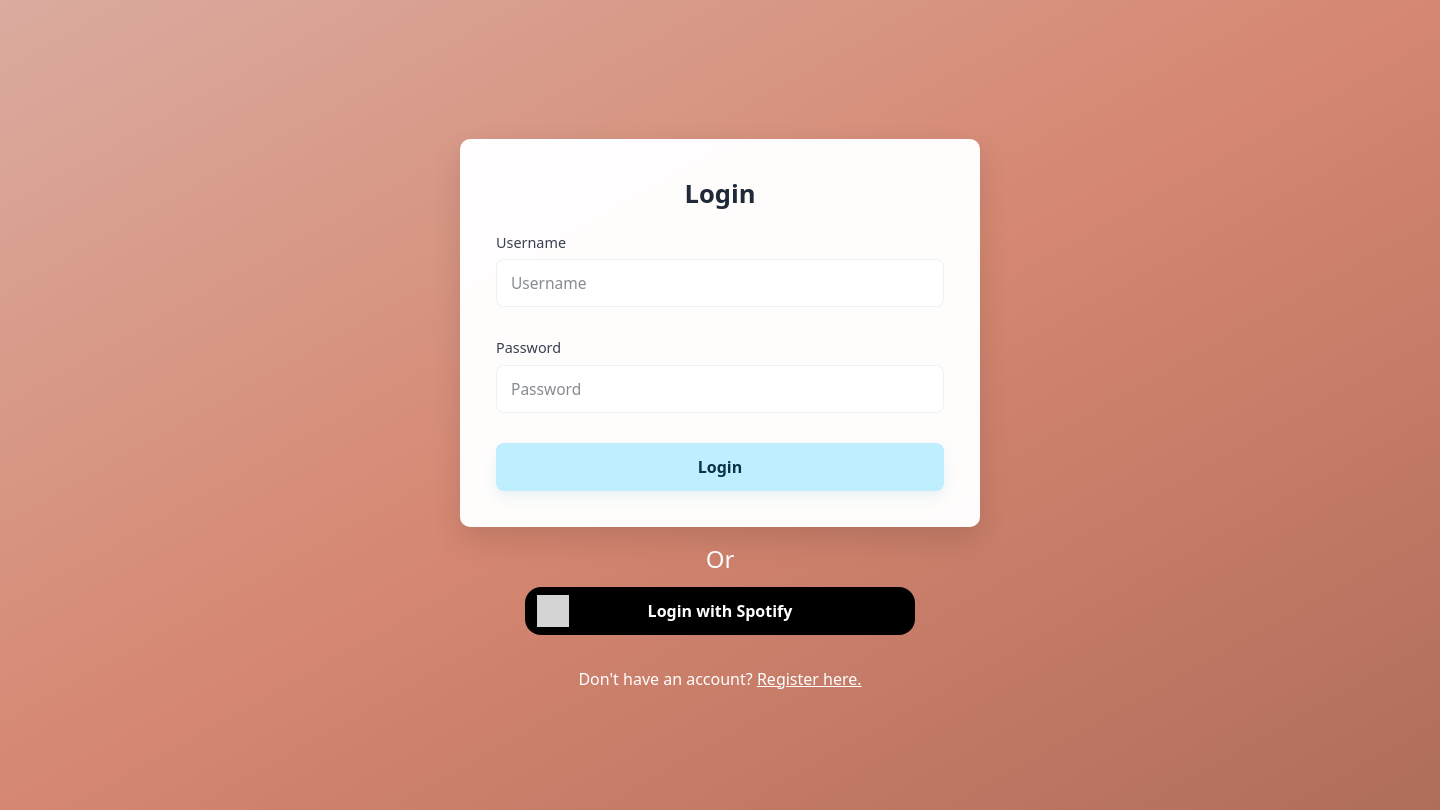
Test: Login component › shows error message on login failure
The width and height of the screenshot is (1440, 810).
Type "baduser" into the field with placeholder "Username". click: (720,283)
box: [496, 259, 944, 307]
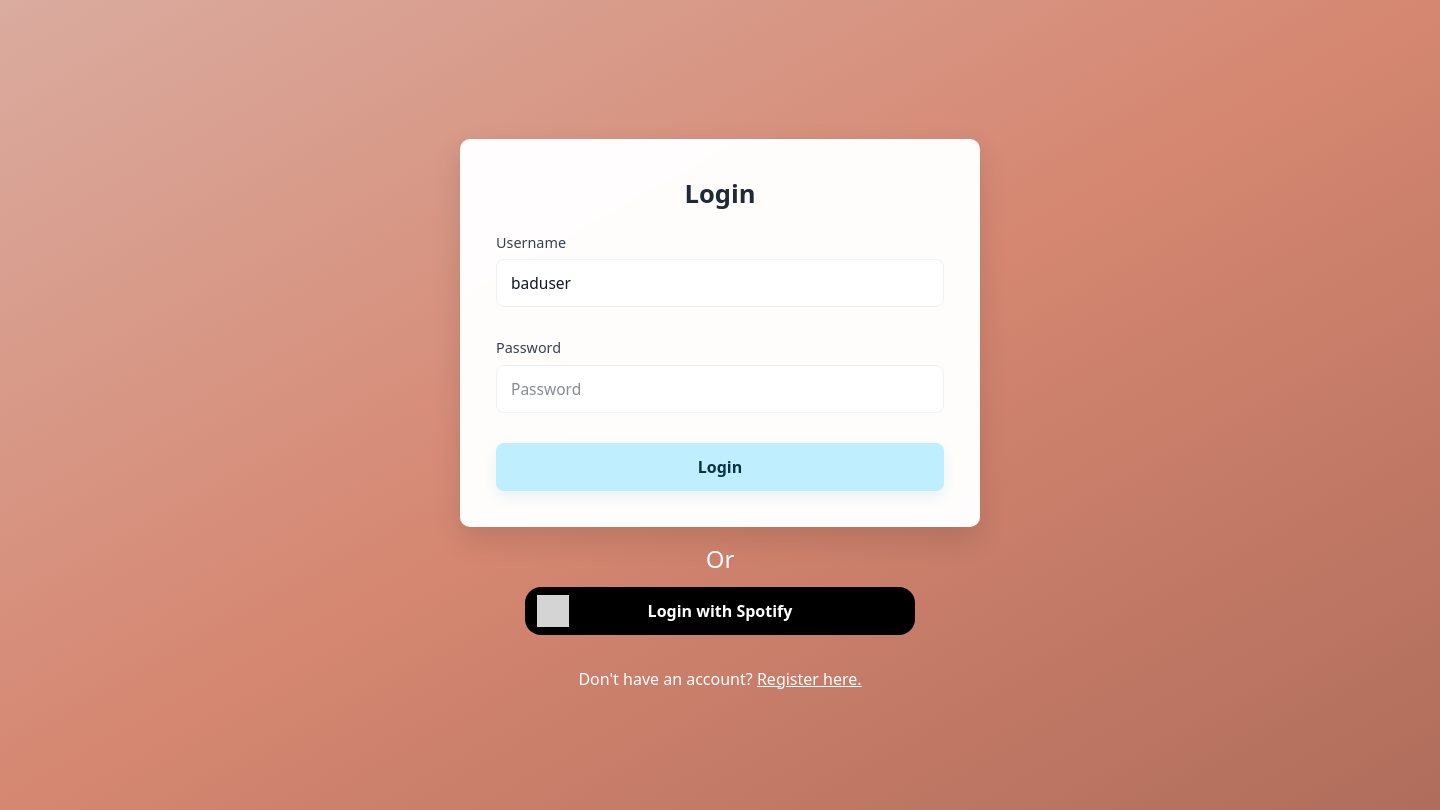
Type "badpass" into the password field with placeholder "Password". click: (720,389)
box: [496, 365, 944, 413]
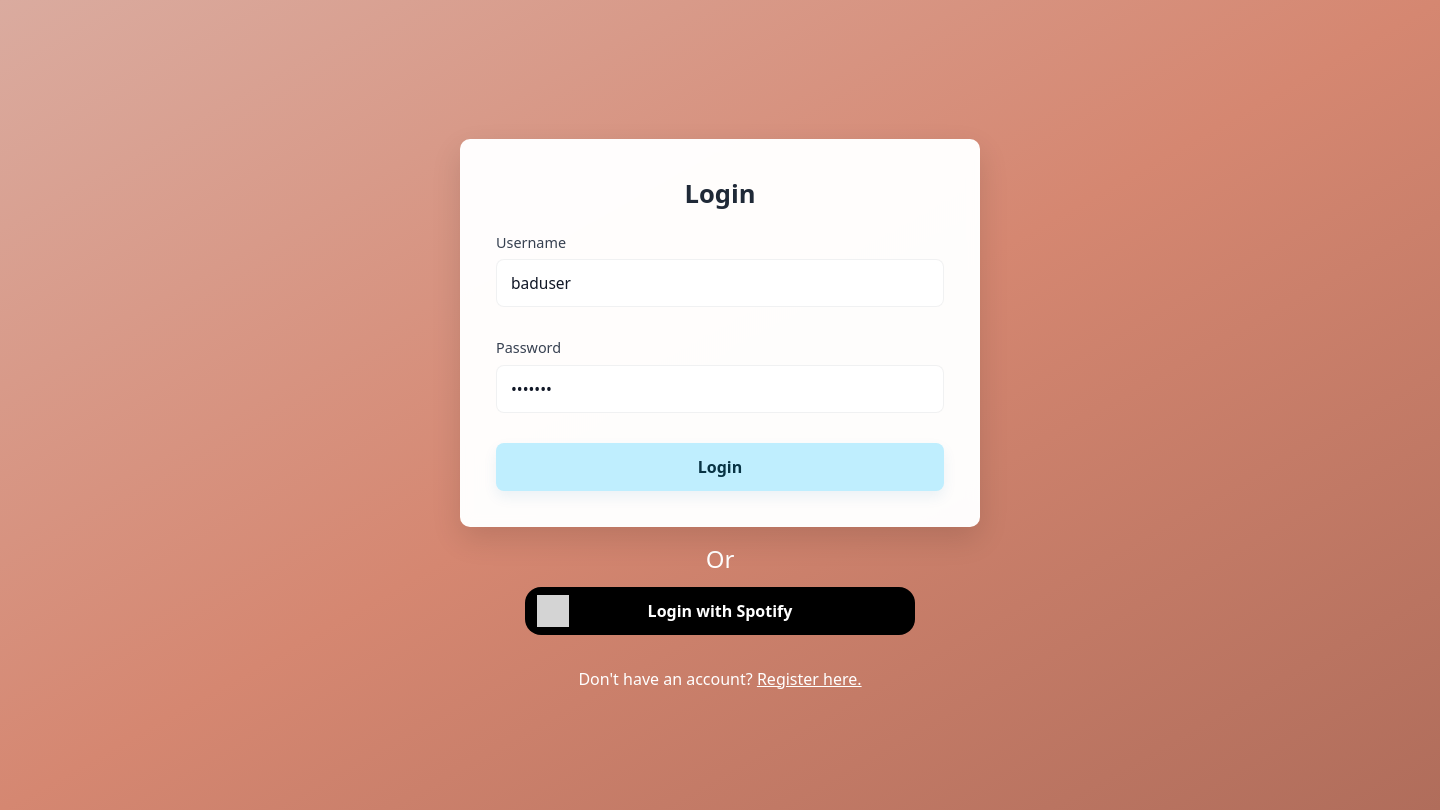
Click the button "Login". click: (720,467)
box: [496, 443, 944, 491]
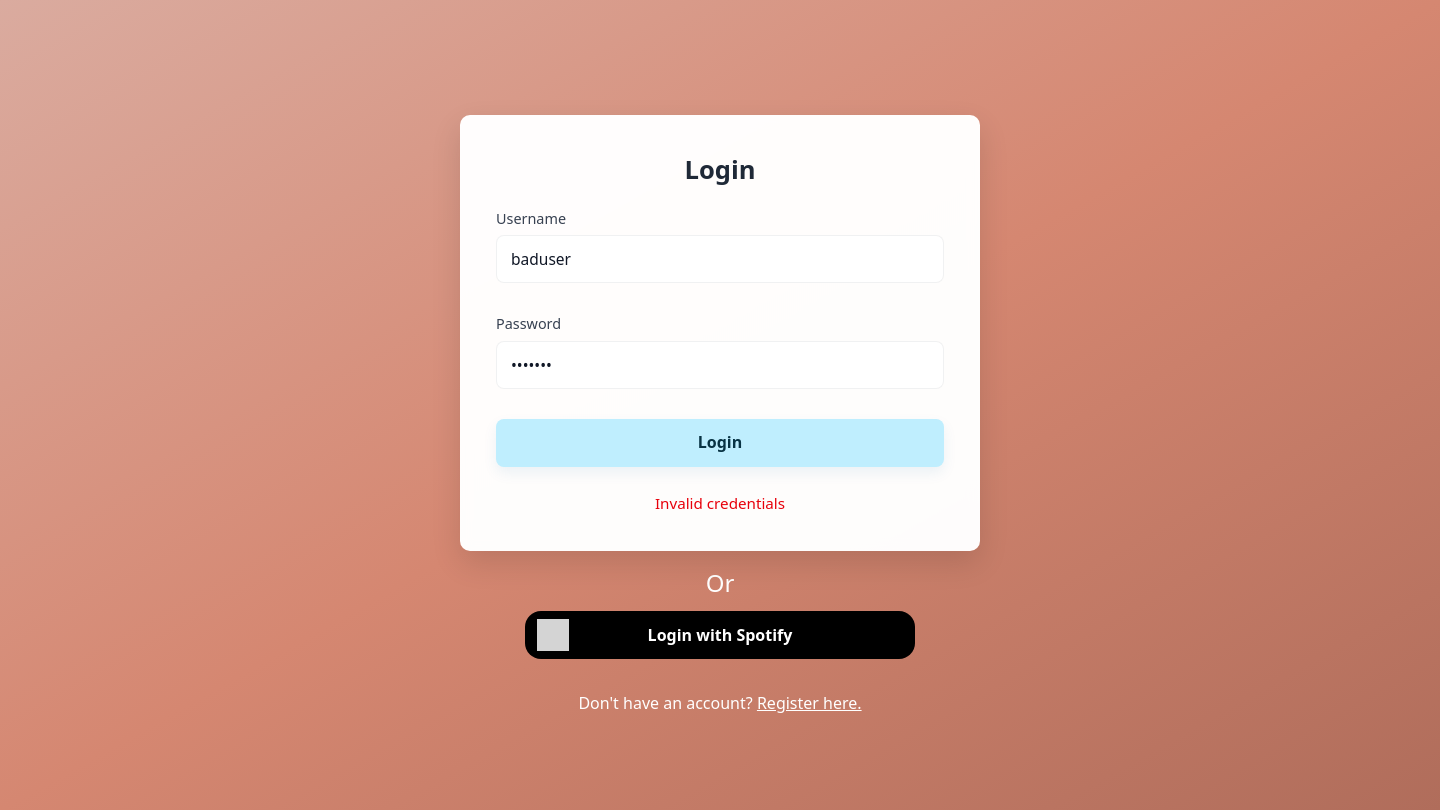
Now the text "Invalid credentials" is shown, box [655, 493, 785, 513]
